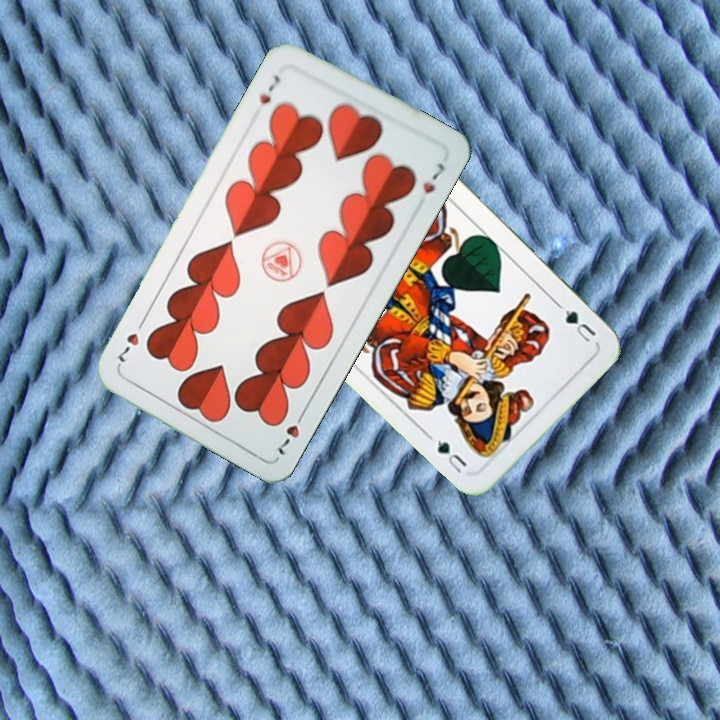GU: (553, 299, 599, 347)
H7: (270, 406, 309, 460), (254, 71, 283, 107)
